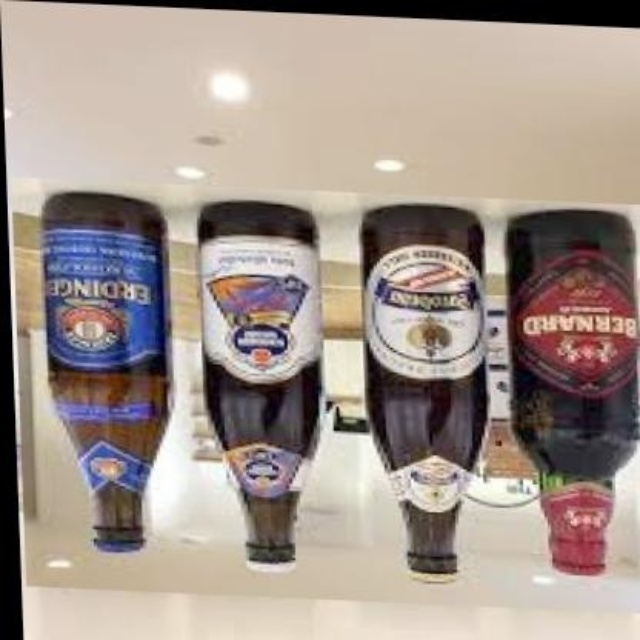trash: (508, 209, 637, 571), (362, 205, 486, 572), (42, 192, 168, 549), (198, 202, 320, 562)
